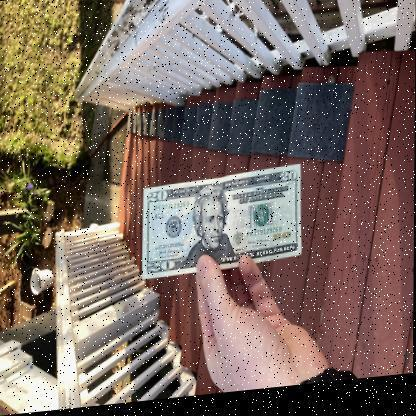twenty-front: (142, 169, 302, 282)
